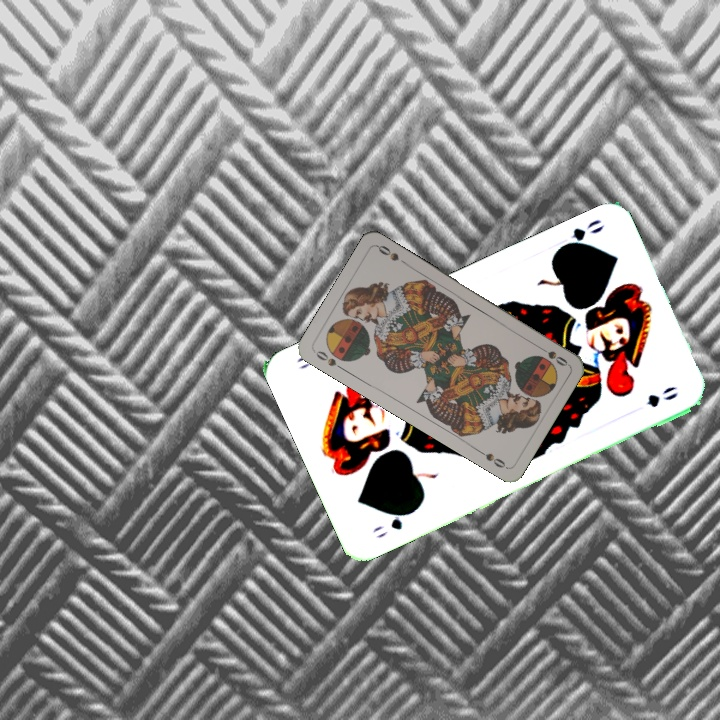GO: (553, 215, 607, 253), (369, 506, 418, 541)
SO: (534, 341, 570, 369), (310, 346, 347, 373)
